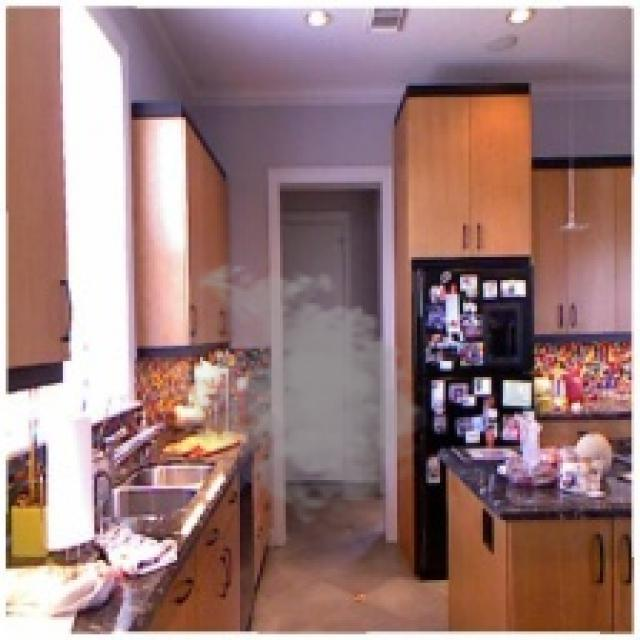Smoke: (160, 257, 432, 529)
